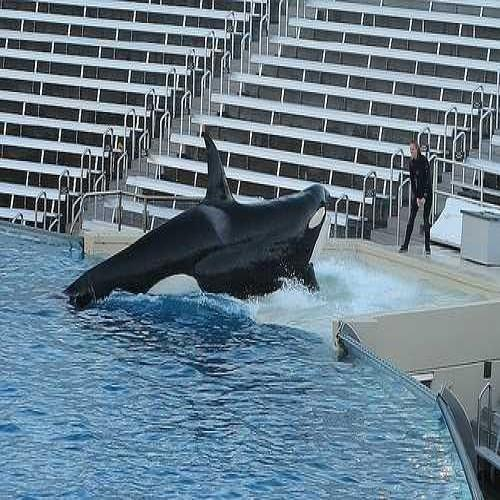killer_whale-endangered: (53, 130, 335, 324)
